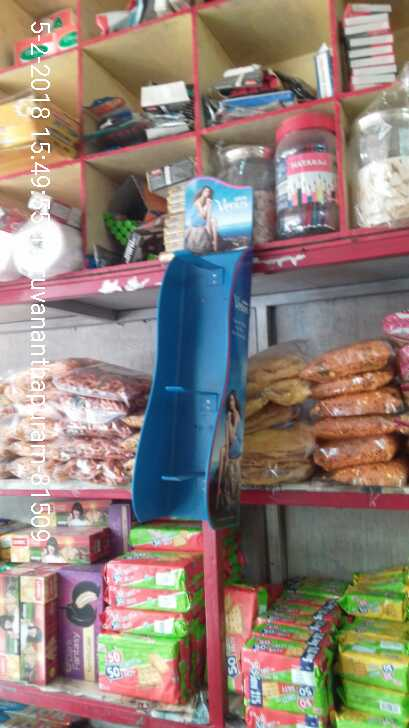reject: (97, 270, 288, 441)
